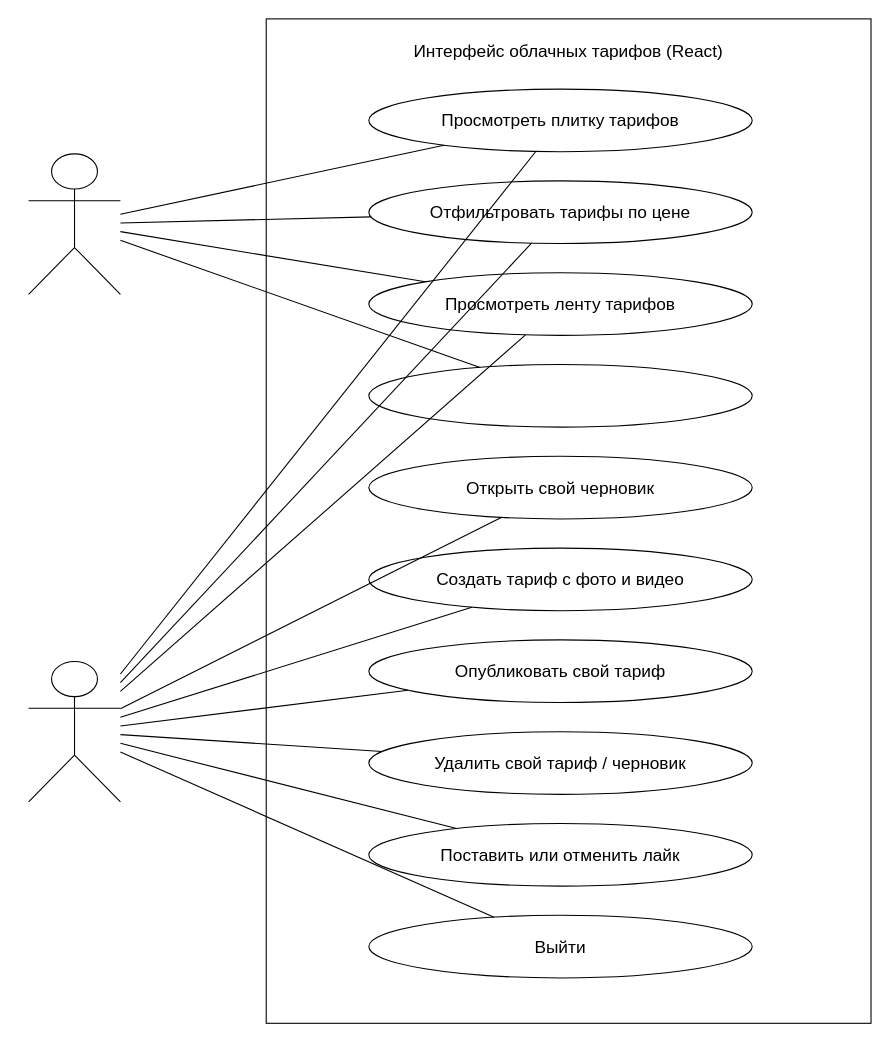
Some shapes in this 890 by 1042 pixel diagram are drawn without their labels. Here are the shapes that lost their labels. From the top down, the box of each, then its label:
(28, 153, 120, 294): Гость
(368, 363, 752, 427): Войти
(28, 660, 120, 802): Пользователь
